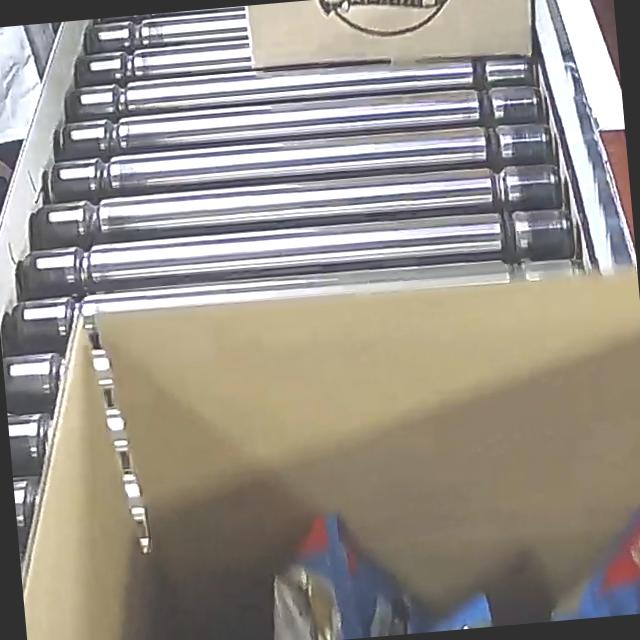paprika: (157, 484, 640, 640)
